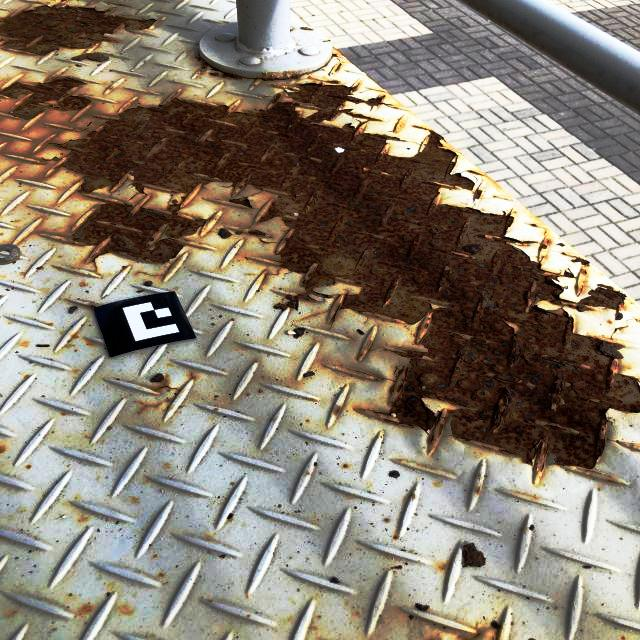Corrosion: (49, 80, 640, 474), (0, 0, 154, 57), (72, 203, 201, 264), (0, 76, 93, 122), (194, 55, 246, 80), (359, 408, 411, 426), (446, 627, 496, 640), (390, 369, 405, 405), (166, 193, 190, 213), (258, 73, 304, 82), (224, 196, 251, 211), (384, 348, 415, 359), (570, 256, 591, 265), (248, 228, 269, 237), (560, 269, 577, 277), (539, 238, 550, 250), (475, 190, 485, 201), (239, 179, 250, 189), (334, 62, 343, 73), (467, 169, 483, 175), (332, 53, 339, 57), (531, 223, 538, 226)
